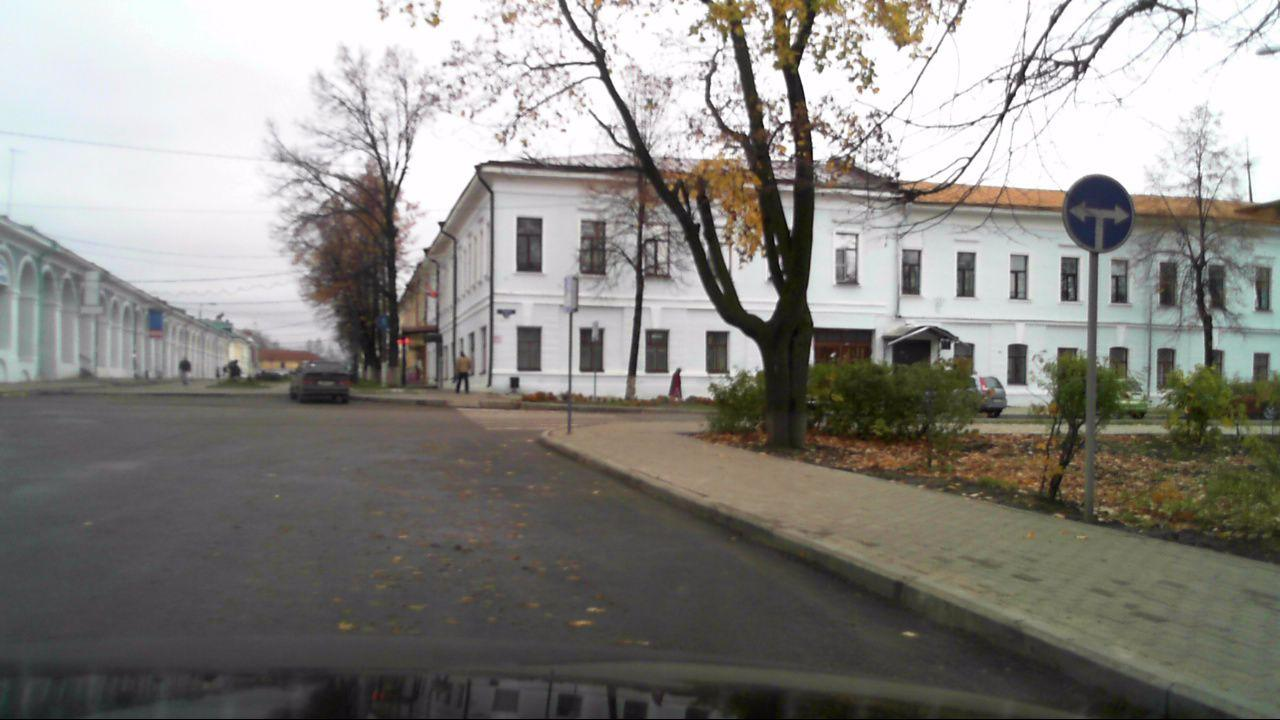4_1_6: (1059, 171, 1137, 254)
4_5_1: (376, 313, 391, 330)
